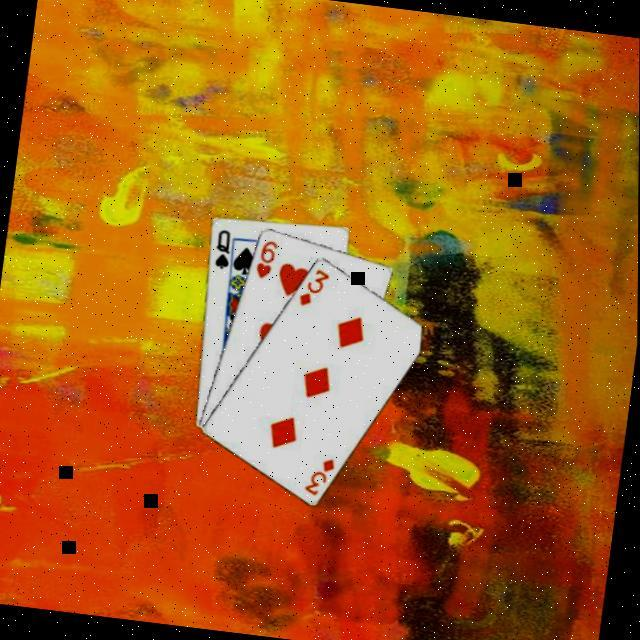3D: (294, 264, 332, 312), (300, 453, 336, 501)
6H: (250, 236, 280, 283)
QS: (208, 225, 234, 272)
